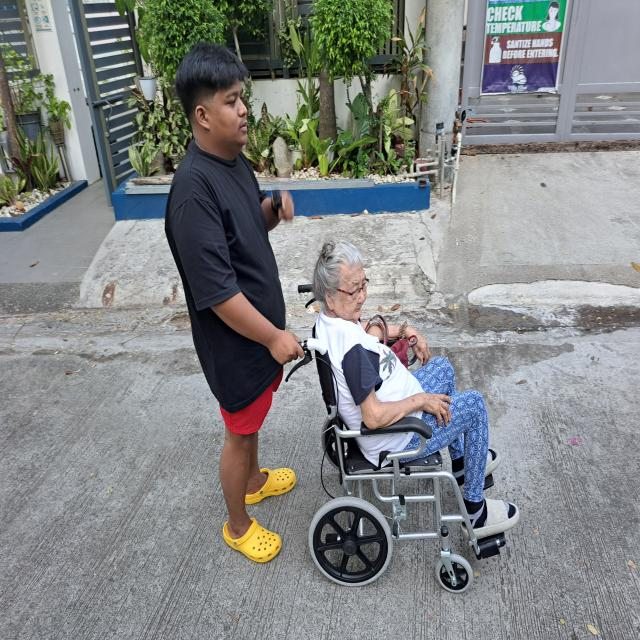wheelchairs: (292, 282, 508, 602)
